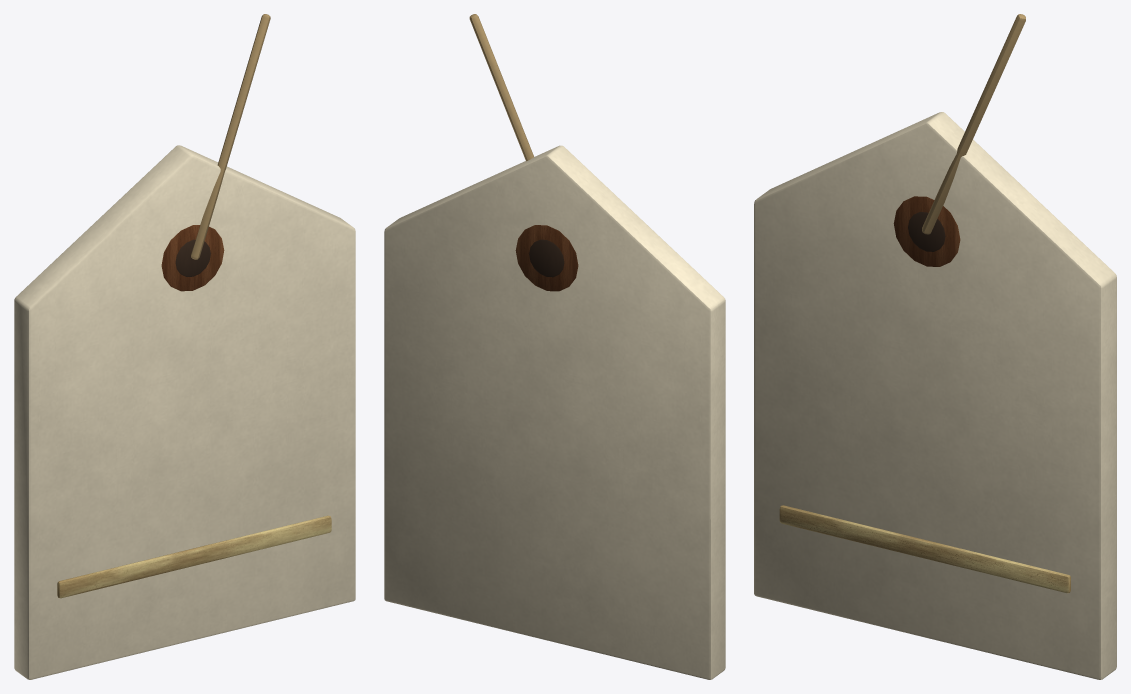
Rendered from etiqueta_precio.gltf.
The picture shows the model from 3 angles, left to right: view 1: azimuth 30°, elevation 25°; view 2: azimuth 150°, elevation 25°; view 3: azimuth 330°, elevation 25°; orthographic projection. The views are drawn at different scales.
Parts seen in each view (by area): view 1: etiqueta_precio; view 2: etiqueta_precio; view 3: etiqueta_precio.
Boxes of the visible parts, x1,y1,x2,y2 form: etiqueta_precio: [14, 14, 355, 679]; etiqueta_precio: [384, 14, 725, 679]; etiqueta_precio: [754, 14, 1116, 679].
Size of the model in its own units: 0.6 by 1.05 by 0.0645.
5 materials, 5 textured.
